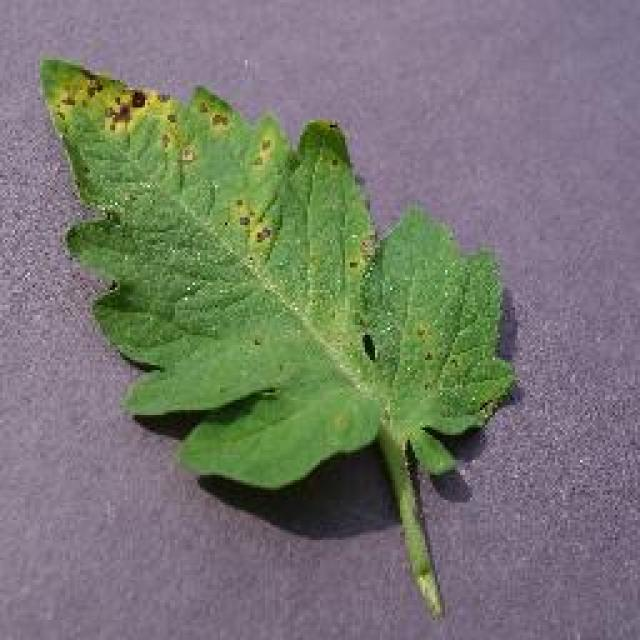Tomato___Septoria_leaf_spot: (42, 60, 512, 610)
